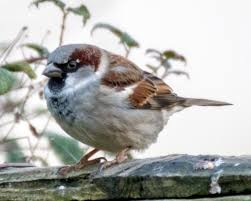hsparrow: (45, 39, 236, 181)
